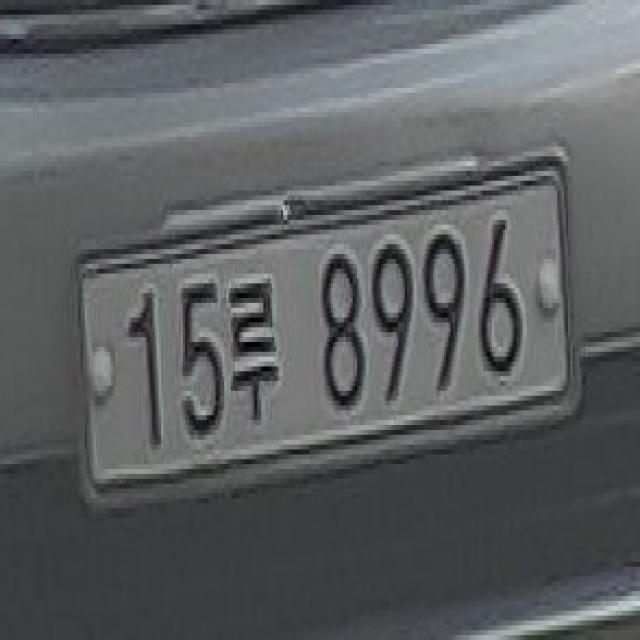1: (124, 274, 170, 469)
5: (172, 259, 229, 454)
6: (475, 200, 531, 396)
8: (318, 234, 370, 430)
9: (420, 210, 472, 410), (368, 220, 420, 415)
license_plate: (67, 132, 590, 547)
lu: (224, 254, 285, 440)
